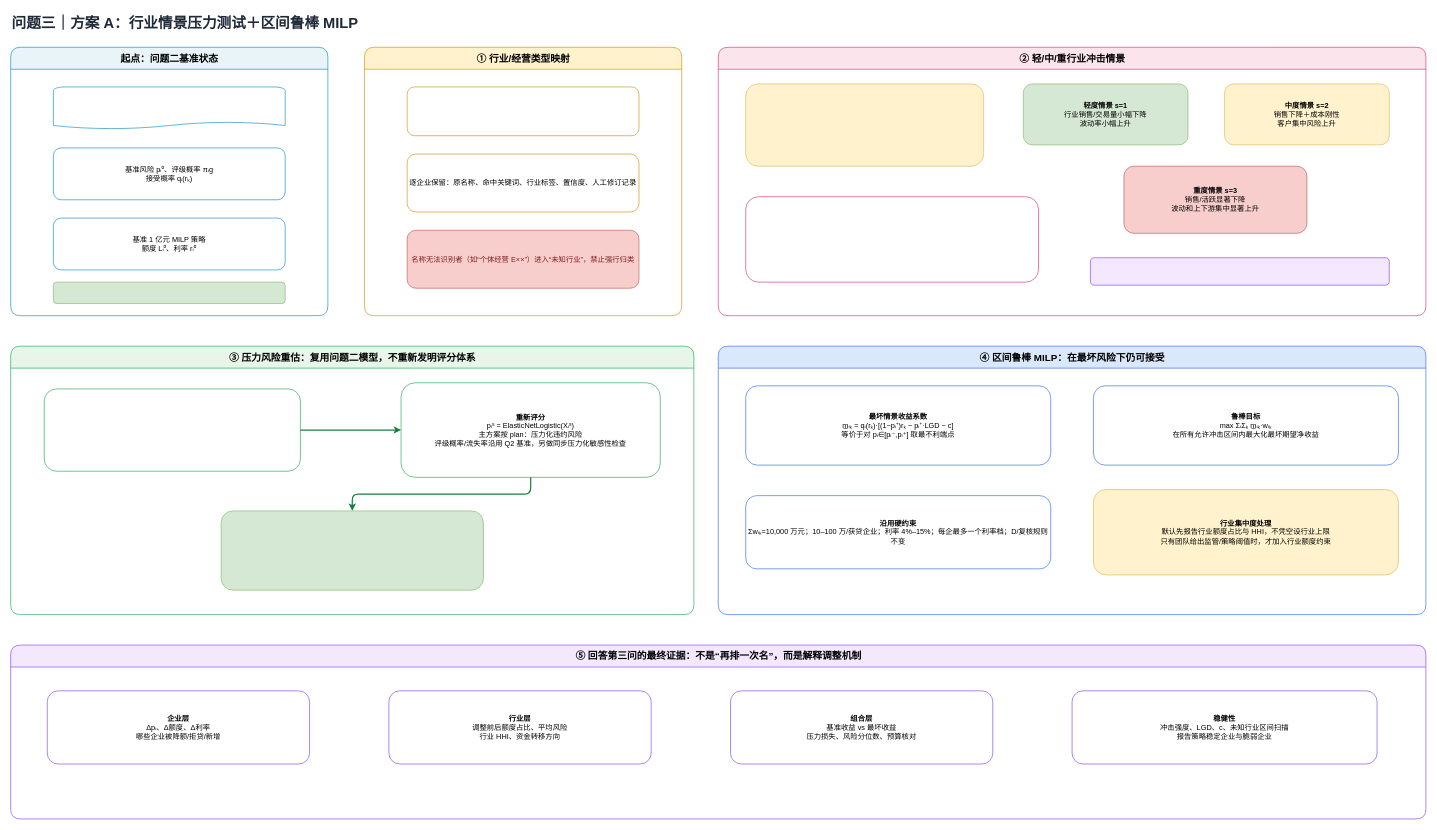
Image size: 1437x830. Some labels were removed from this diagram. Here are the shapes that lost their labels. From the top down, the centre of each, then its label:
At point (169, 108): "302 家统一特征 Xᵢ".
At point (523, 111): "企业名称关键词＋人工规则 映射到粗行业 h(i)".
At point (864, 124): "冲击参数来源接口 优先：官方行业统计/权威研究 不足处：由团队确认透明区间 不得从缺少疫情后观察期的附件反推因果效应".
At point (892, 239): "冲击映射表 Δh,s 行业 h × 情景 s × 特征 销售规模、近期趋势、月度波动、成本刚性代理、客户/供应商集中度 每个数有来源/假设标签与上下界".
At point (1239, 271): "情景是假设性压力测试，不写成“疫情导致某企业必然违约”的因果结论".
At point (169, 292): "基准不是最终答案，而是“调整前”对照组".
At point (172, 429): "生成情景特征 Xᵢˢ = StressTransform(Xᵢ, Δh(i),s) 只改受冲击的可解释特征 保留原始 Xᵢ 与变更日志".
At point (352, 550): "形成风险区间 pᵢ⁻ = min_s pᵢˢ，pᵢ⁺ = max_s pᵢˢ 保留各情景值，不只存上下界 未知行业用更宽、可追溯的冲击区间".
